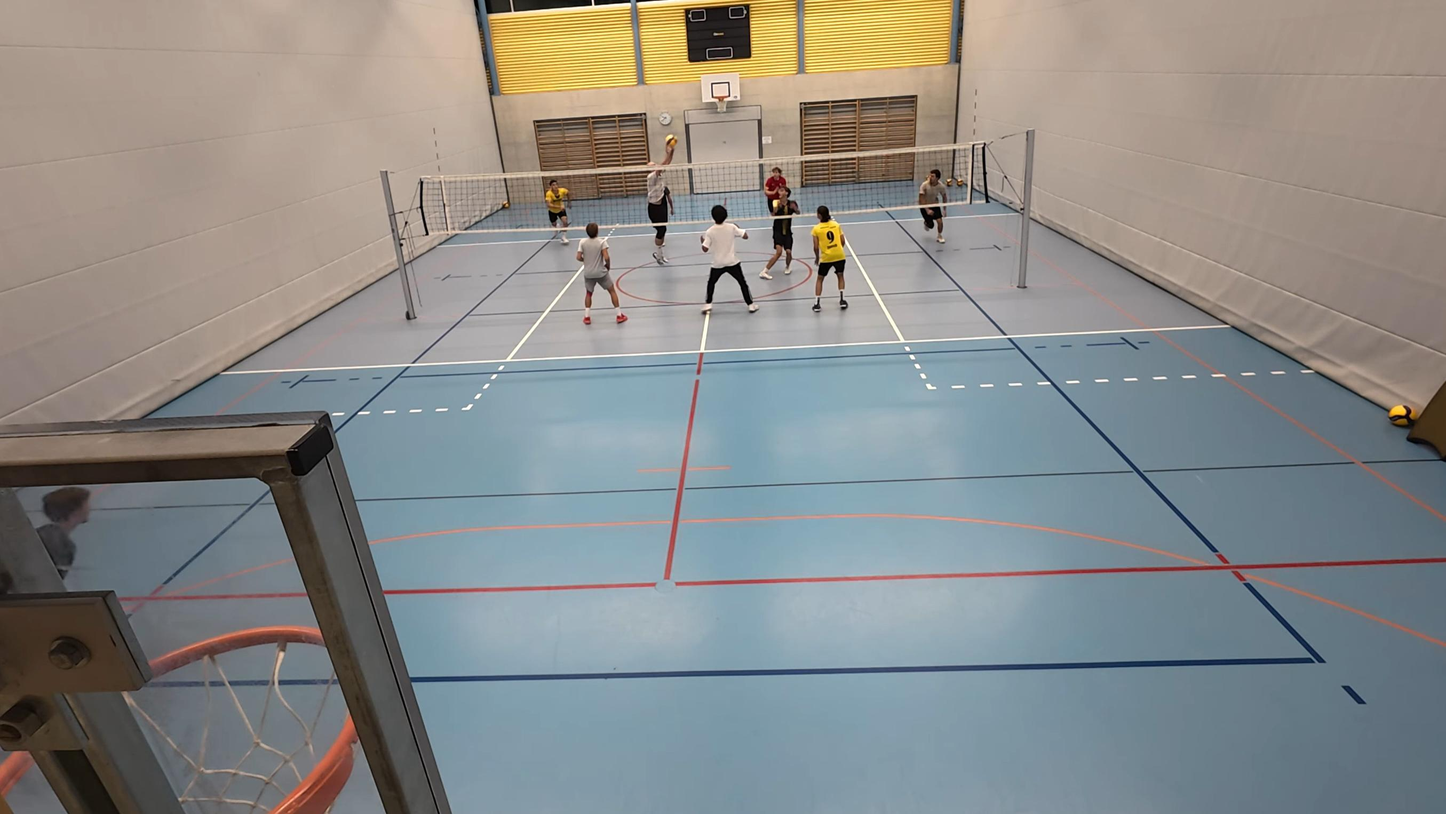alzata: (638, 142, 684, 275)
